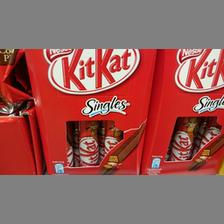Schokolade: (24, 48, 156, 174), (145, 48, 223, 176)
